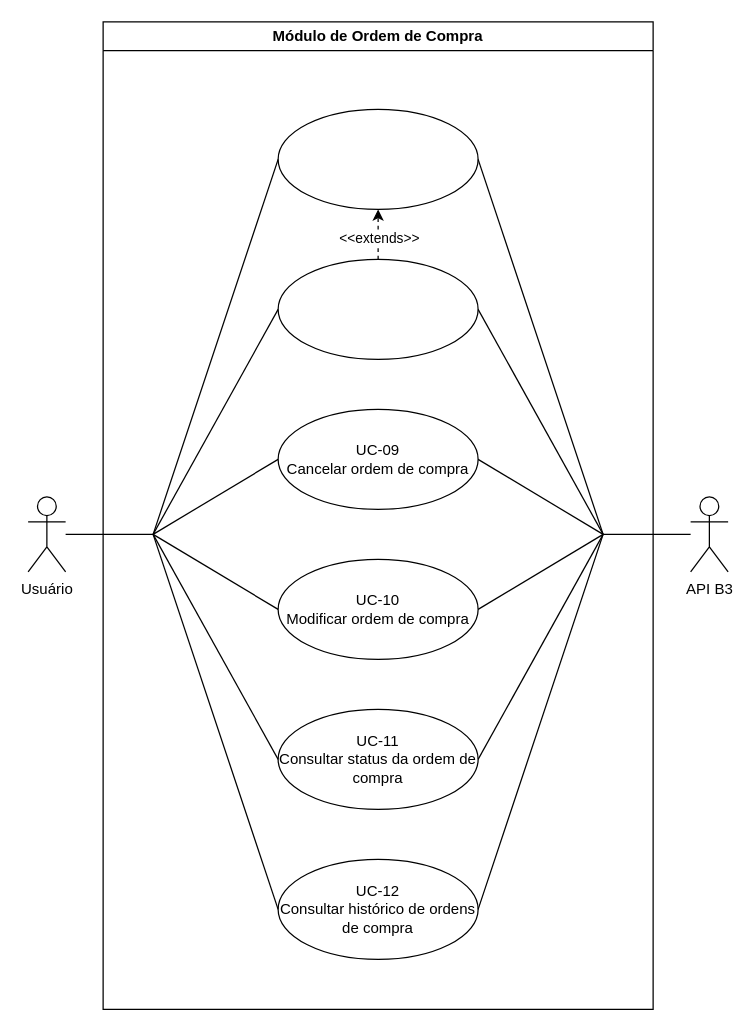
Image size: 754x1031. Some labels were removed from this diagram. The shapes that lost their labels are listed below. From the top down, each one's centre as x and y in pixels, then its label:
At [377,158]: "UC-07 Simular ordem de compra".
At [377,308]: "UC-08 Efetivar ordem de compra".
